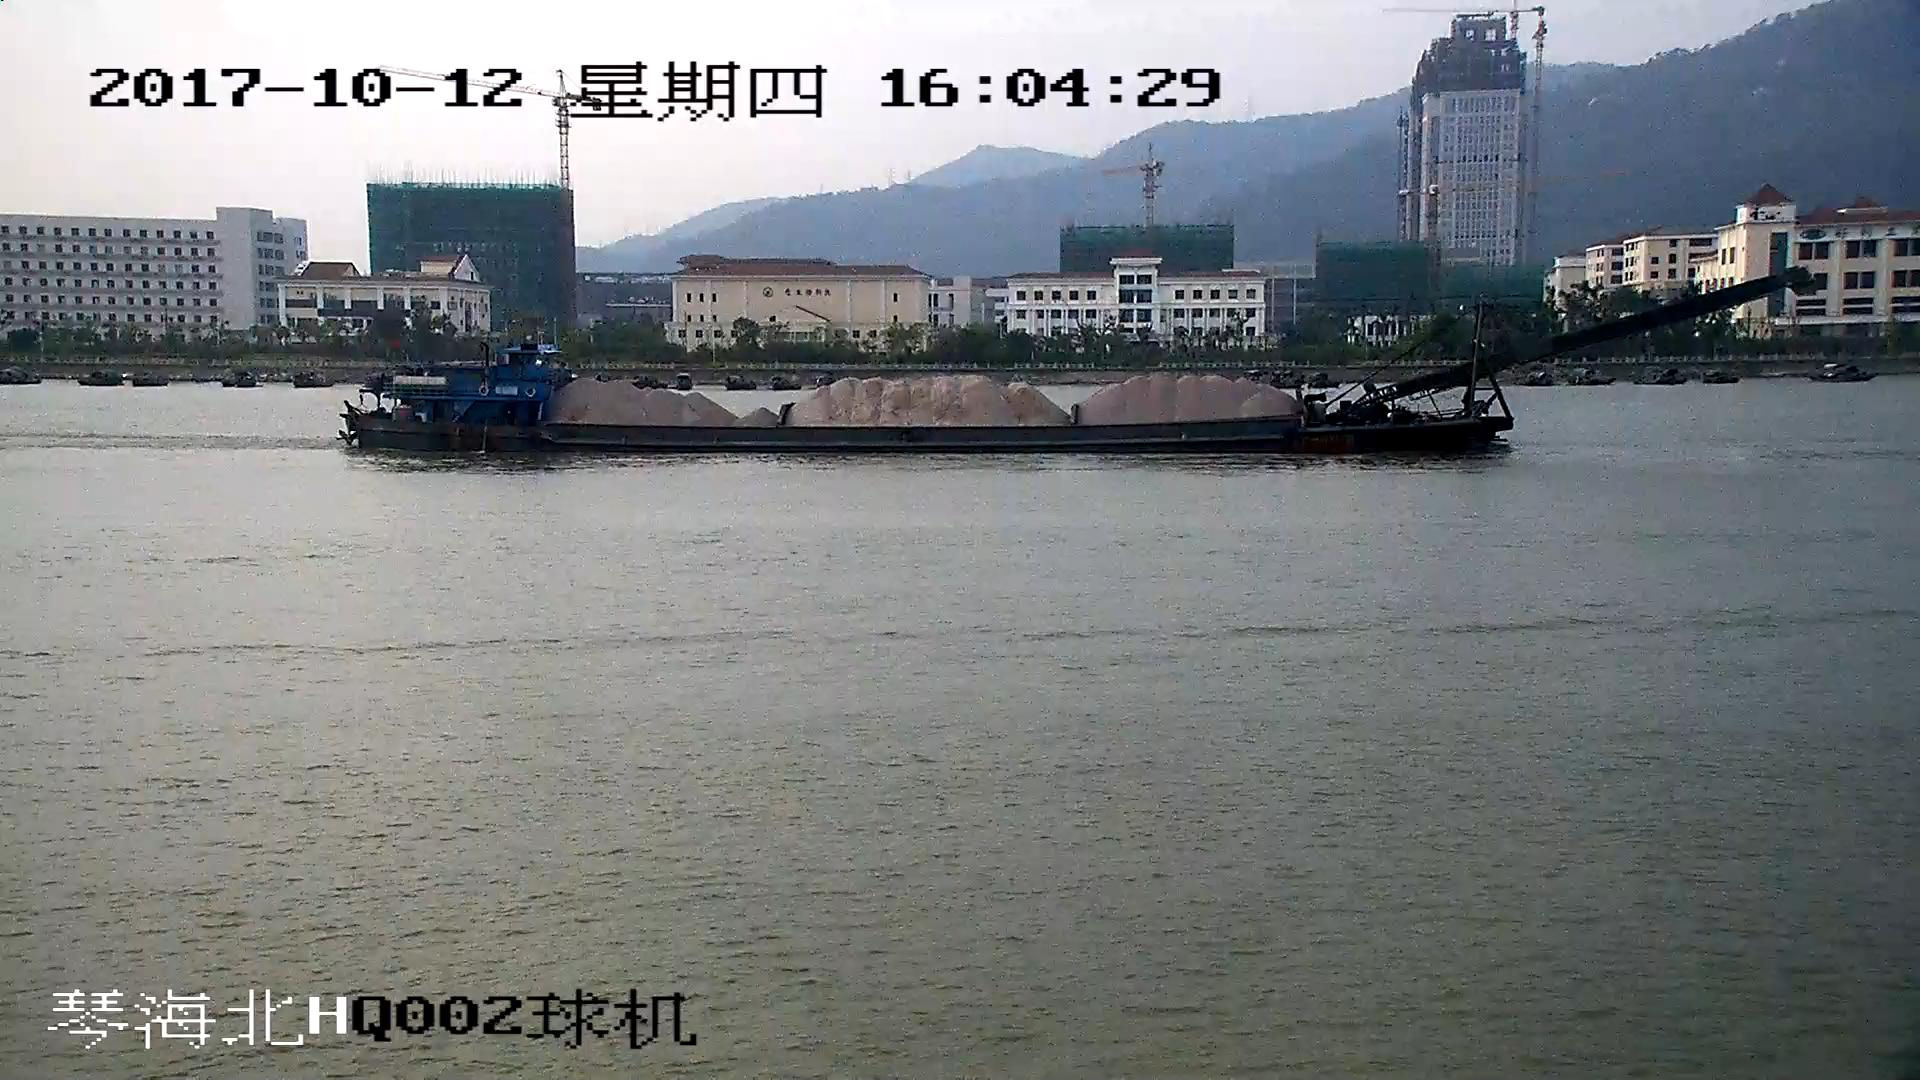ore carrier: (341, 271, 1801, 455)
